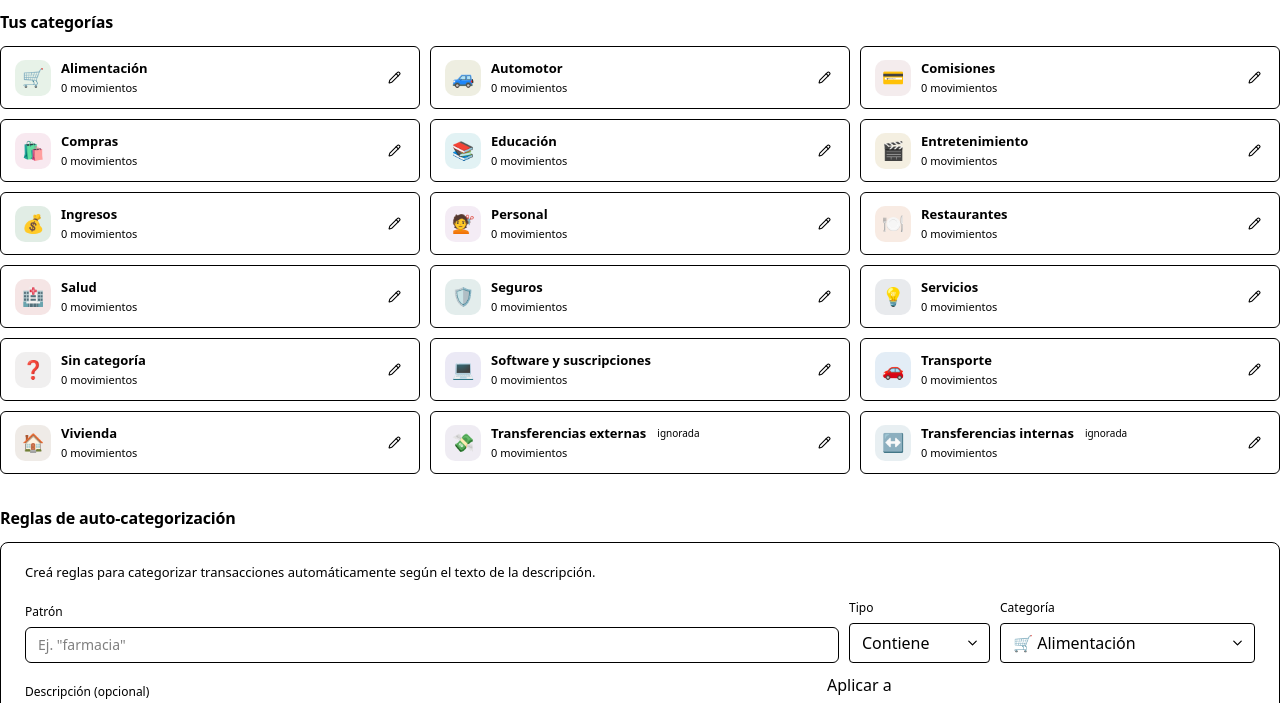
Test: Categories › adds and removes a pattern rule
The width and height of the screenshot is (1280, 703).
Type "farmashop" into the field with placeholder "Ej. \"farmacia\"".
click(432, 644); type("farmashop")  # box x1=25 y1=626 x2=839 y2=662
(page scrolled)
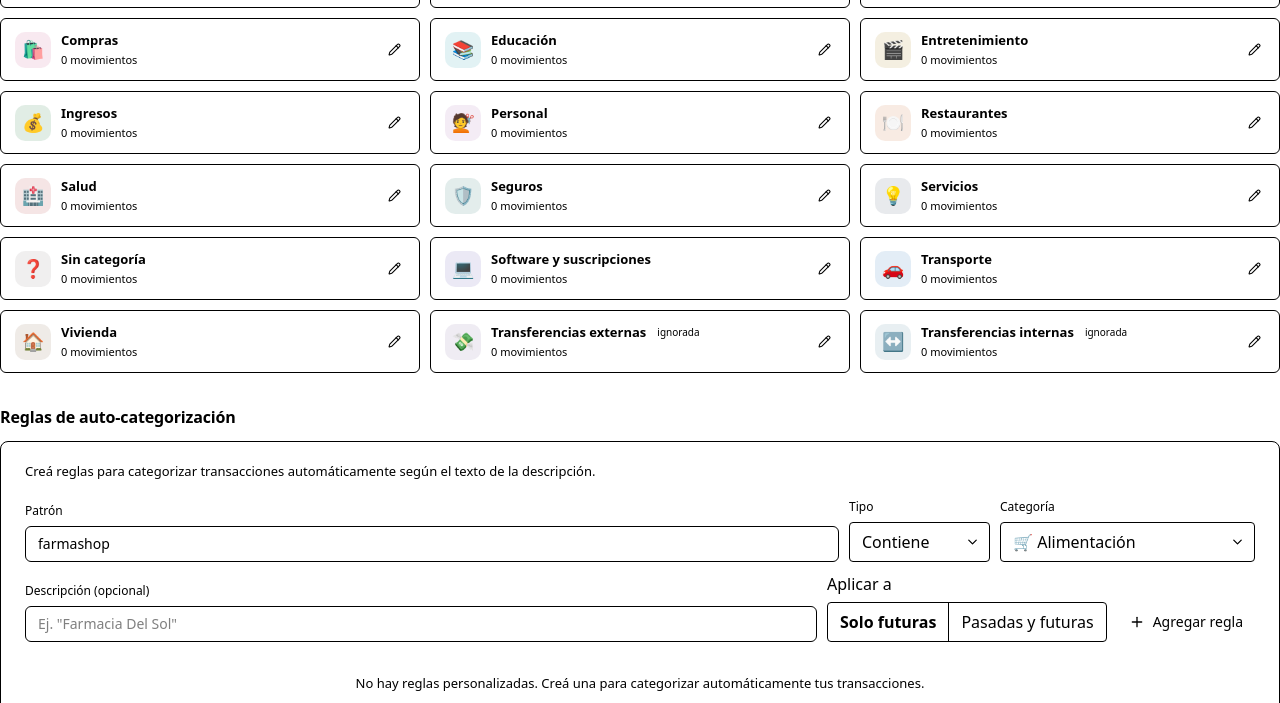
Click the button "Agregar regla".
click(1186, 622)  # box x1=1117 y1=602 x2=1255 y2=642
(page scrolled)
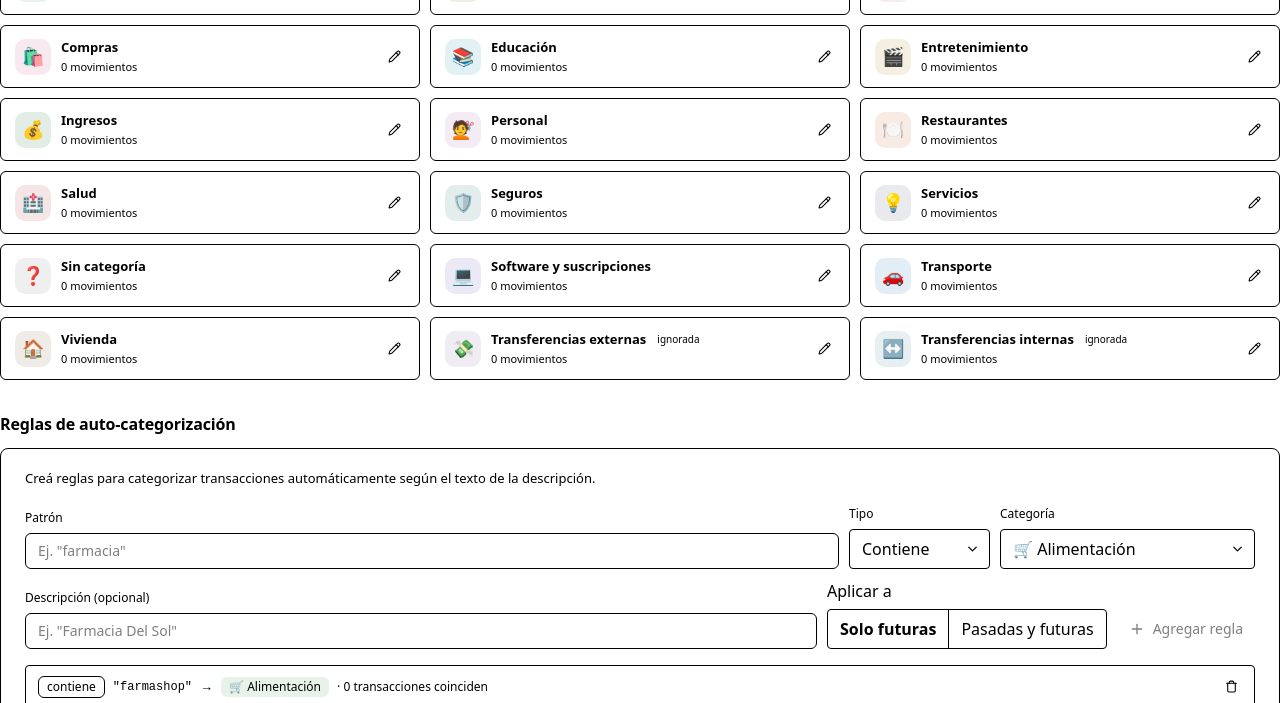
Result: the text "\"farmashop\"" is shown at x1=113 y1=678 x2=192 y2=696
Click the button named "Eliminar regla farmashop".
click(1232, 686)  # box x1=1221 y1=676 x2=1242 y2=697
(page scrolled)
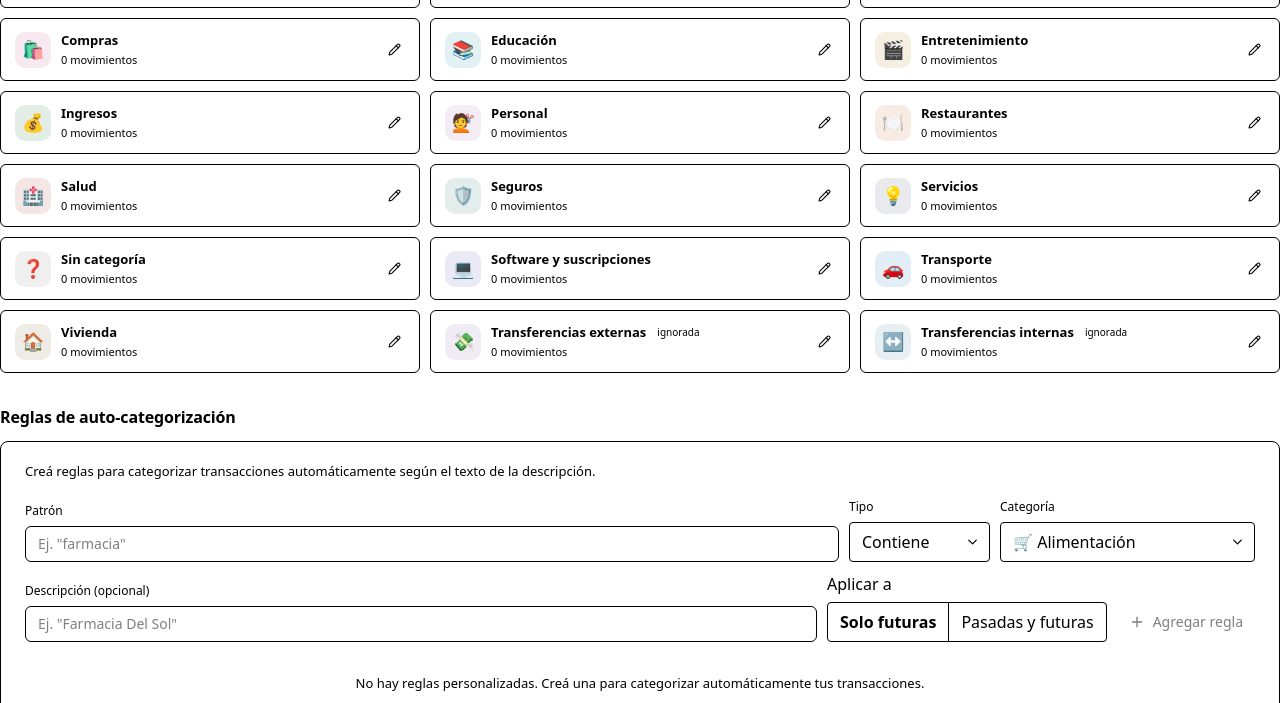
Result: the text "\"farmashop\"" is gone
